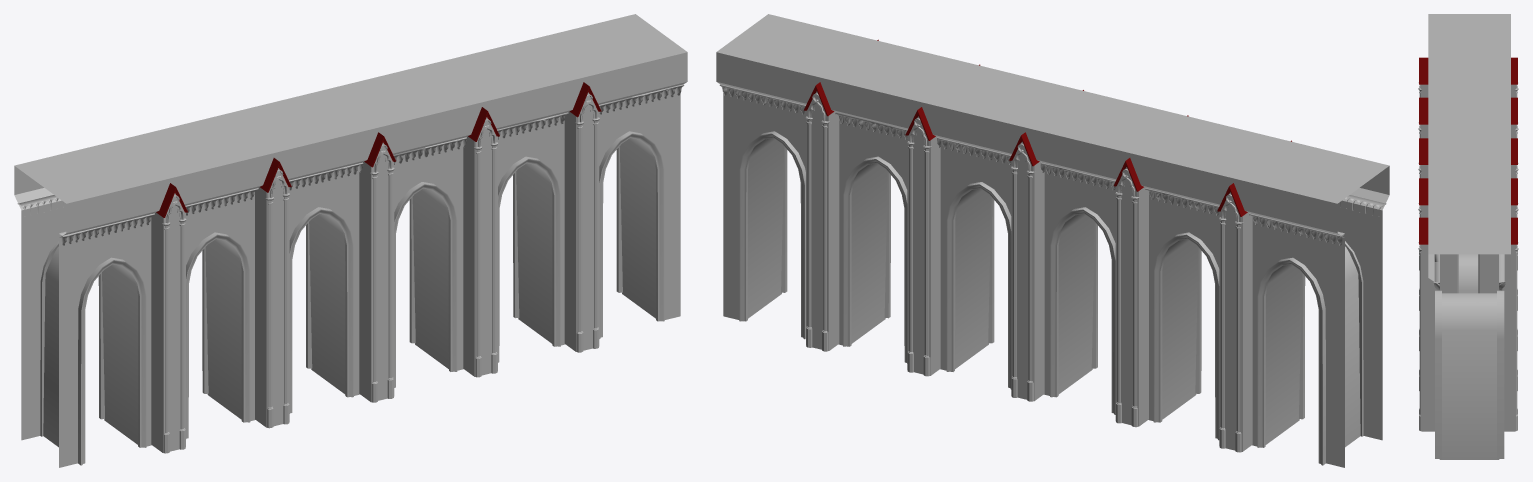
File: wall_004.glb
The picture shows the model from 3 angles, left to right: view 1: azimuth 30°, elevation 25°; view 2: azimuth 150°, elevation 25°; view 3: azimuth 270°, elevation 25°; orthographic projection. The views are drawn at different scales.
Parts seen in each view (by area): view 1: wall_004; view 2: wall_004; view 3: wall_004.
Boxes of the visible parts, <box> form: wall_004: <box>14,14,687,467</box>; wall_004: <box>716,14,1389,467</box>; wall_004: <box>1418,14,1518,459</box>.
Bounding box in the file's own units: 7.5 × 3.11 × 1.33.
